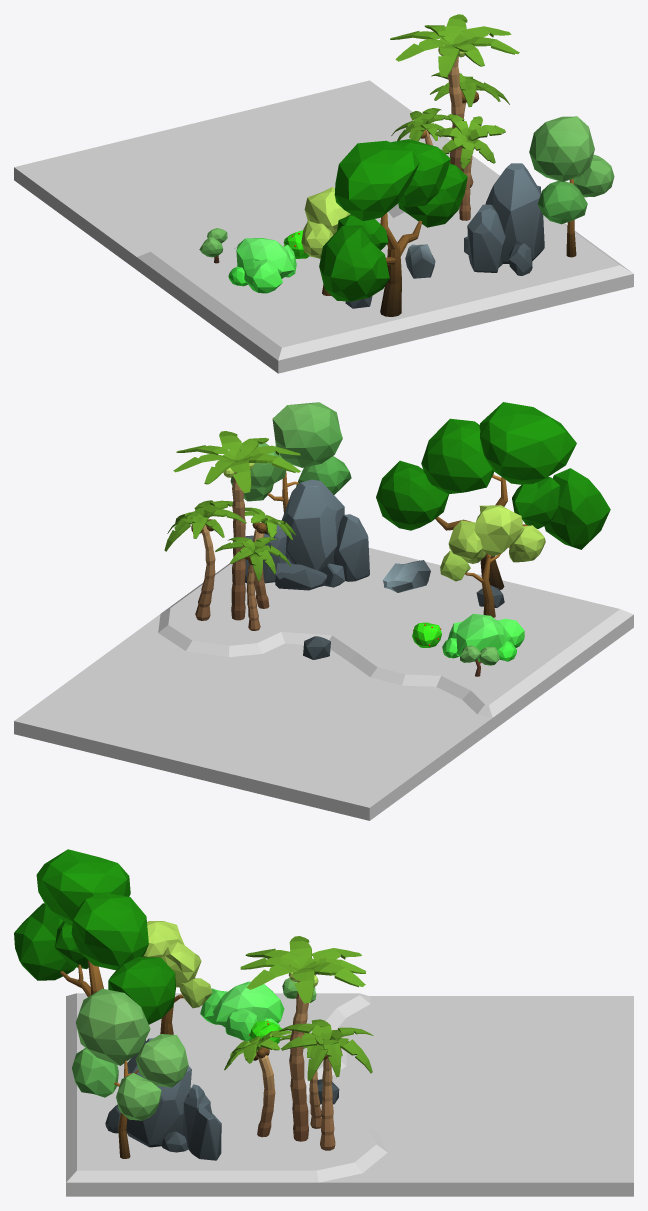
Rendered from Terrain (Low Poly).fbx.
3 renders of one model, top to bottom at view 1: azimuth 30°, elevation 25°; view 2: azimuth 150°, elevation 25°; view 3: azimuth 270°, elevation 25°, orthographic. The views are drawn at different scales.
Parts seen in each view (by area): view 1: Plane.001, Cylinder.021, Icosphere.008, Cylinder.006, Cube.027, Icosphere.019, Cube.028, Cylinder.024, Cube.001, Cube.007, Icosphere.009, Icosphere.003; view 2: Plane.001, Cylinder.021, Icosphere.008, Cylinder.006, Cylinder.024, Cube.027, Icosphere.019, Cube.007, Cube.001, Cube.028, Icosphere.009, Icosphere.003 (+1 smaller); view 3: Plane.001, Cylinder.021, Cylinder.006, Cube.027, Icosphere.008, Cube.007, Icosphere.019, Cylinder.024, Cube.028, Cube.001.
Part boxes in pixels (x1,y1,x2,y2): Plane.001: (14,80,633,373); Cylinder.021: (319,139,467,316); Icosphere.008: (464,163,544,275); Cylinder.006: (529,116,614,257); Cube.027: (390,14,519,169); Icosphere.019: (228,238,296,293); Cube.028: (435,114,505,220); Cylinder.024: (301,187,350,295); Cube.001: (391,108,449,145); Cube.007: (430,72,509,187); Icosphere.009: (405,244,435,278); Icosphere.003: (199,228,227,263); Plane.001: (14,548,633,820); Cylinder.021: (376,402,610,589); Icosphere.008: (245,479,369,590); Cylinder.006: (230,402,351,512); Cylinder.024: (440,505,545,617); Cube.027: (173,431,300,620); Icosphere.019: (442,613,524,661); Cube.007: (164,500,246,620); Cube.001: (215,537,290,630); Cube.028: (244,507,295,608); Icosphere.009: (382,560,430,592); Icosphere.003: (460,645,499,676); Plane.001: (66,993,633,1196); Cylinder.021: (14,849,175,1024); Cylinder.006: (72,988,188,1158); Cube.027: (240,936,365,1141); Icosphere.008: (105,1038,221,1160); Cube.007: (279,1019,373,1150); Icosphere.019: (200,981,284,1041); Cylinder.024: (143,921,212,1034); Cube.028: (224,1030,291,1137); Cube.001: (279,1032,349,1128).
Bounding box in the file's own units: 29.65 × 40.48 × 14.87.
